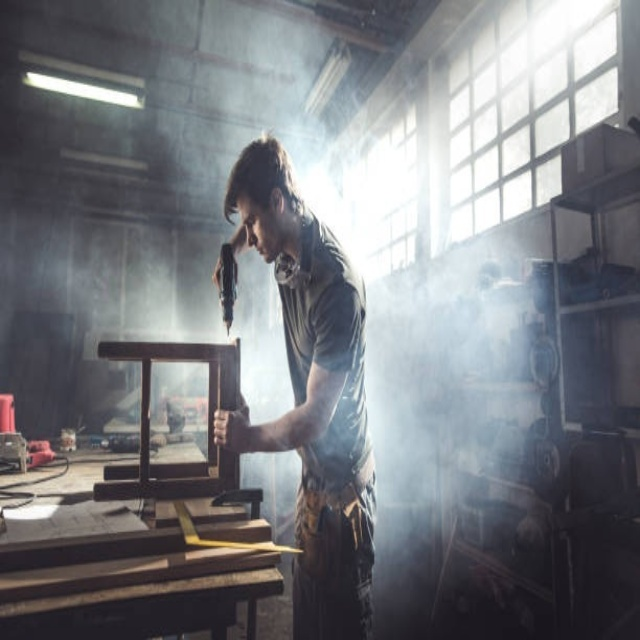Sin_gafas: (241, 205, 269, 231)
Sin_guantes: (212, 398, 253, 455)
Sin_mascara: (255, 238, 273, 267)
